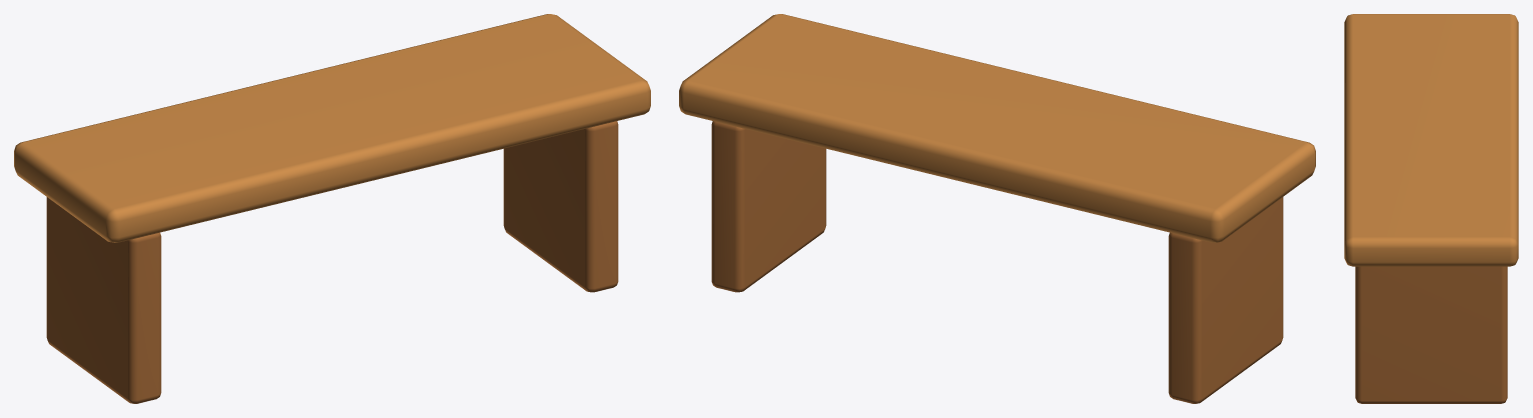
File: Bench.fbx
3 views of the same model, side by side, from view 1: azimuth 30°, elevation 25°; view 2: azimuth 150°, elevation 25°; view 3: azimuth 270°, elevation 25° (orthographic). The views are drawn at different scales.
Visible parts, largest first — view 1: Bench; view 2: Bench; view 3: Bench.
Part boxes in pixels (left/top/right/bottom): Bench: left=14, top=14, right=650, bottom=403; Bench: left=679, top=14, right=1315, bottom=403; Bench: left=1344, top=14, right=1518, bottom=403.
Bounding box in the file's own units: 5 × 1.8 × 1.6.
1 material, 1 textured.
